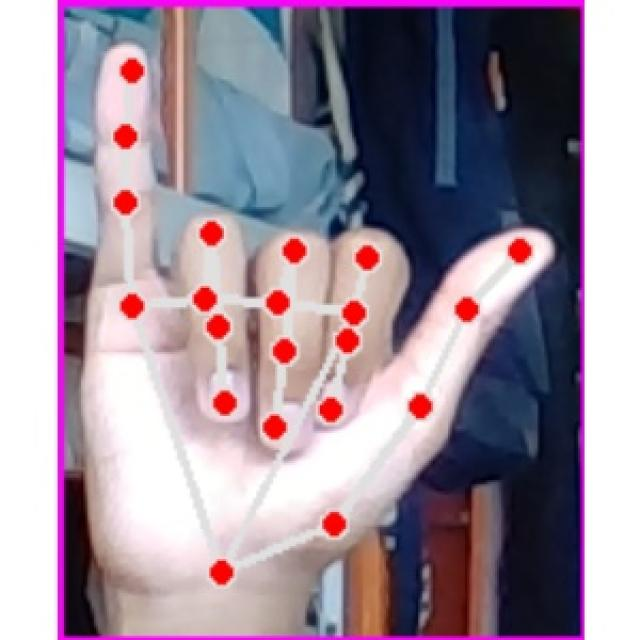Y: (70, 19, 558, 591)
